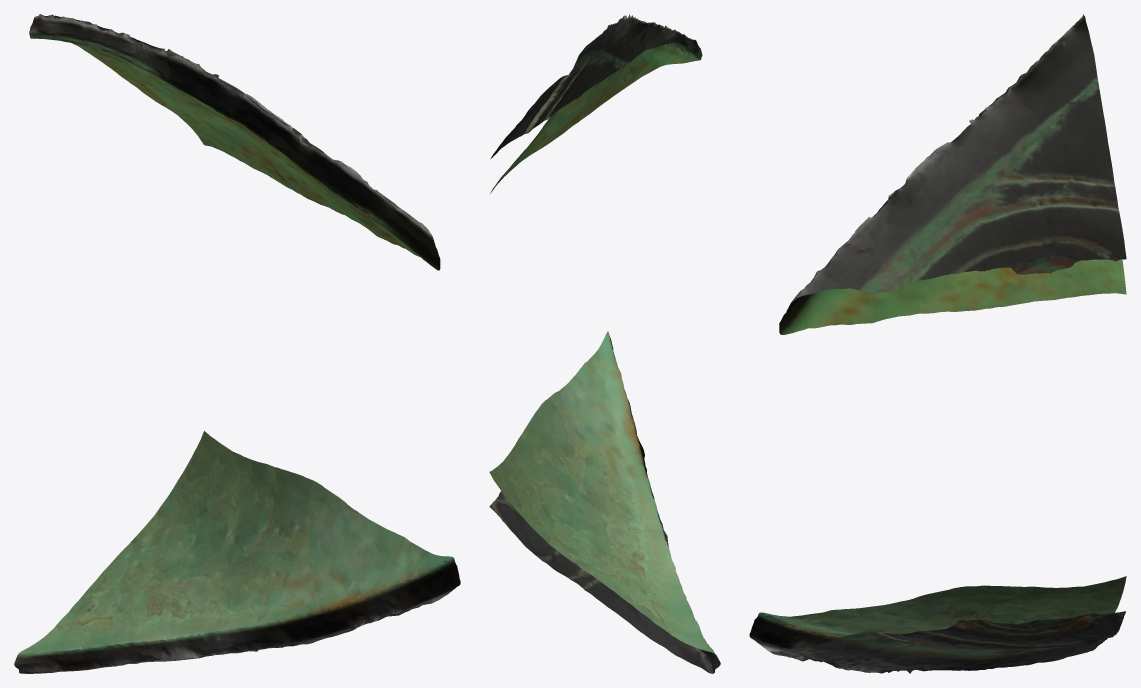
The model's file is tile_2_3.obj.
3 renders of one model, left to right at view 1: azimuth 30°, elevation 25°; view 2: azimuth 150°, elevation 25°; view 3: azimuth 270°, elevation 25°, orthographic. The views are drawn at different scales.
Parts seen in each view (by area): view 1: texture_0; view 2: texture_0; view 3: texture_0.
Boxes of the visible parts, bbox=[...] form: texture_0: bbox=[14, 14, 460, 673]; texture_0: bbox=[489, 14, 720, 673]; texture_0: bbox=[749, 14, 1126, 673].
Size of the model in its own units: 0.0874 by 0.1947 by 0.1035.
Materials: 1 (1 with a texture image).
